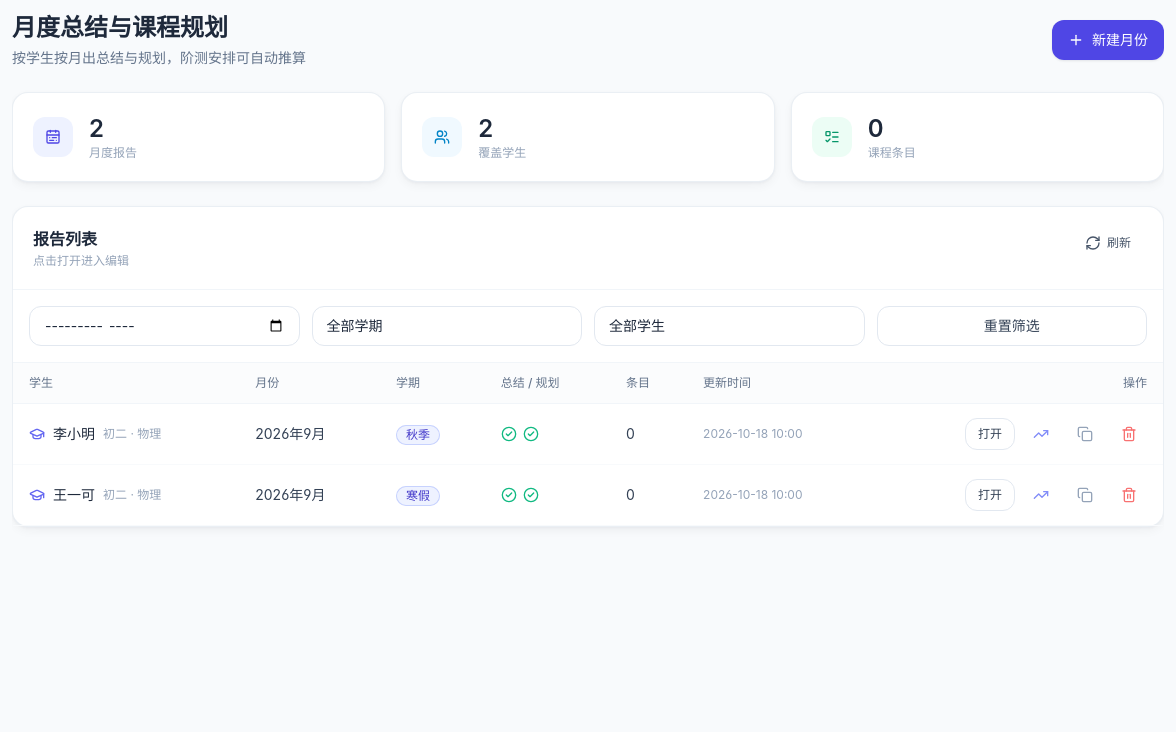
Scenario: 月度报告列表 › 学期筛选生效
This screenshot has width=1176, height=732.
Expected: the text "李小明" is shown, x1=53 y1=424 x2=95 y2=444
Select "寒假" in the dropdown named "学期" at (447, 326), box x1=312 y1=306 x2=582 y2=346
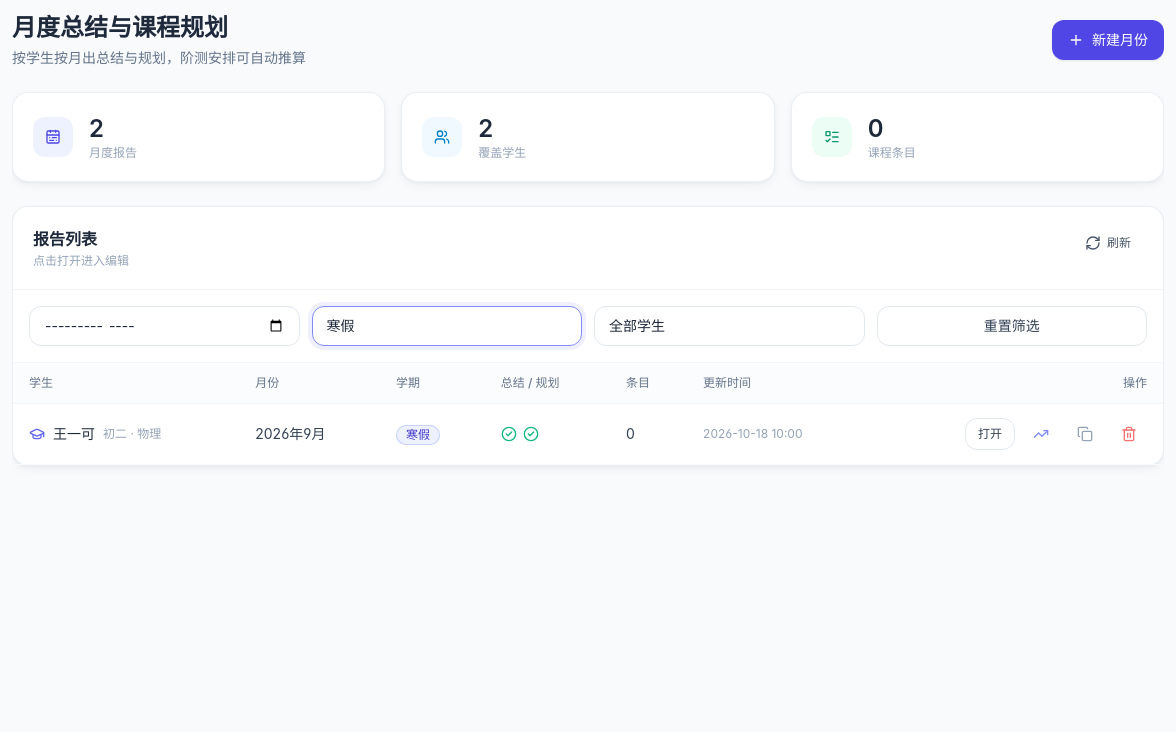
Expected: the text "王一可" is shown, x1=53 y1=424 x2=95 y2=444
Result: the text "李小明" is gone
Select "全部学期" in the dropdown named "学期" at (447, 326), box x1=312 y1=306 x2=582 y2=346
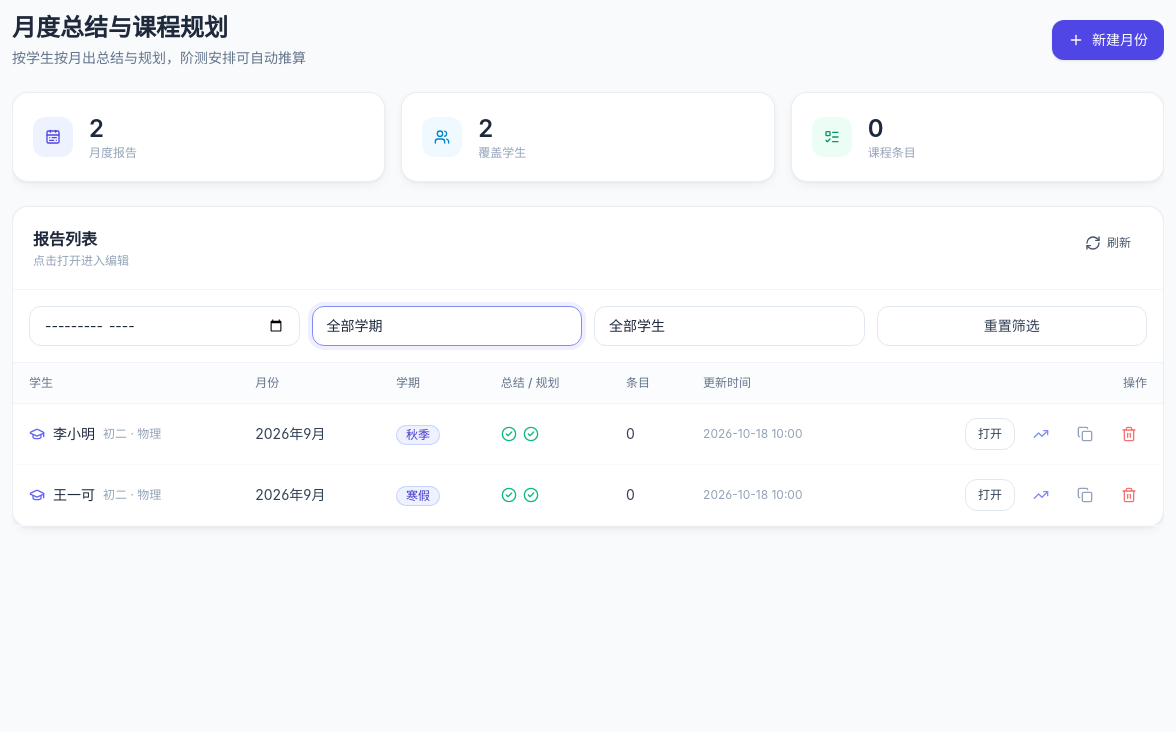
Result: the text "李小明" is shown at x1=53 y1=424 x2=95 y2=444
